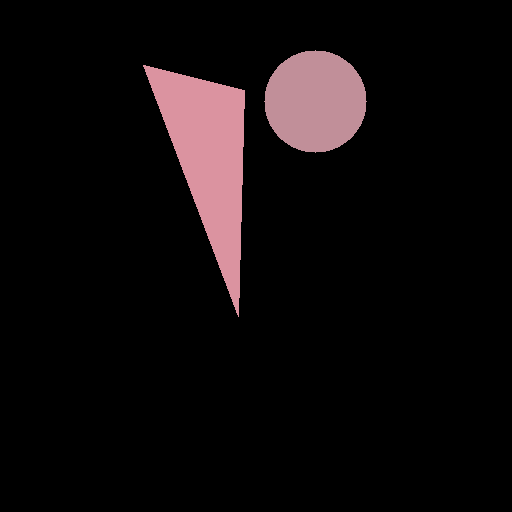circle: (264, 50, 366, 152)
triangle: (143, 65, 244, 316)
